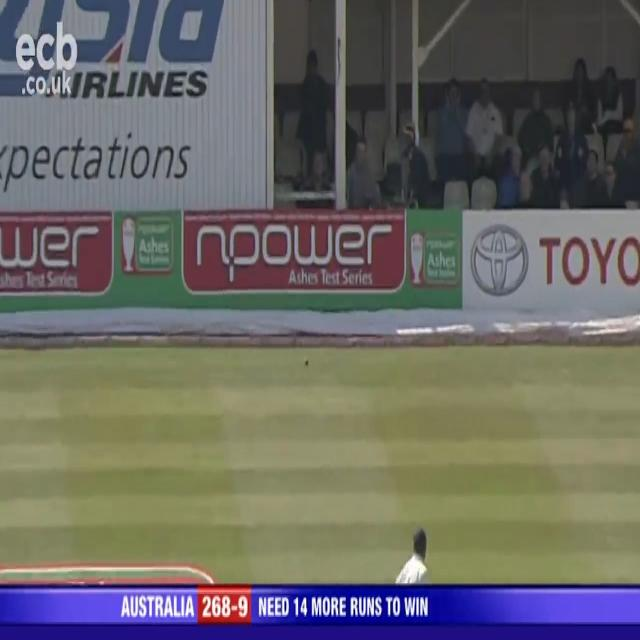ball: (302, 354, 310, 368)
